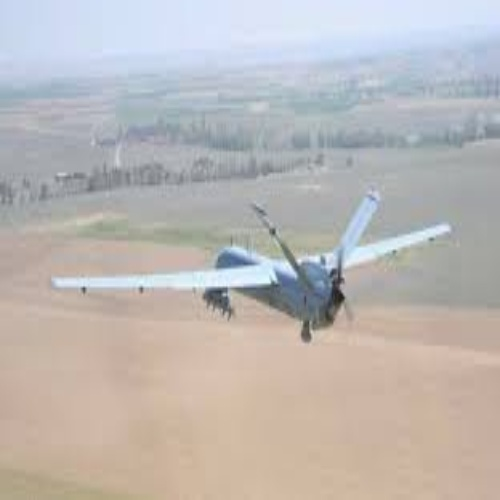uav184: (49, 189, 454, 347)
